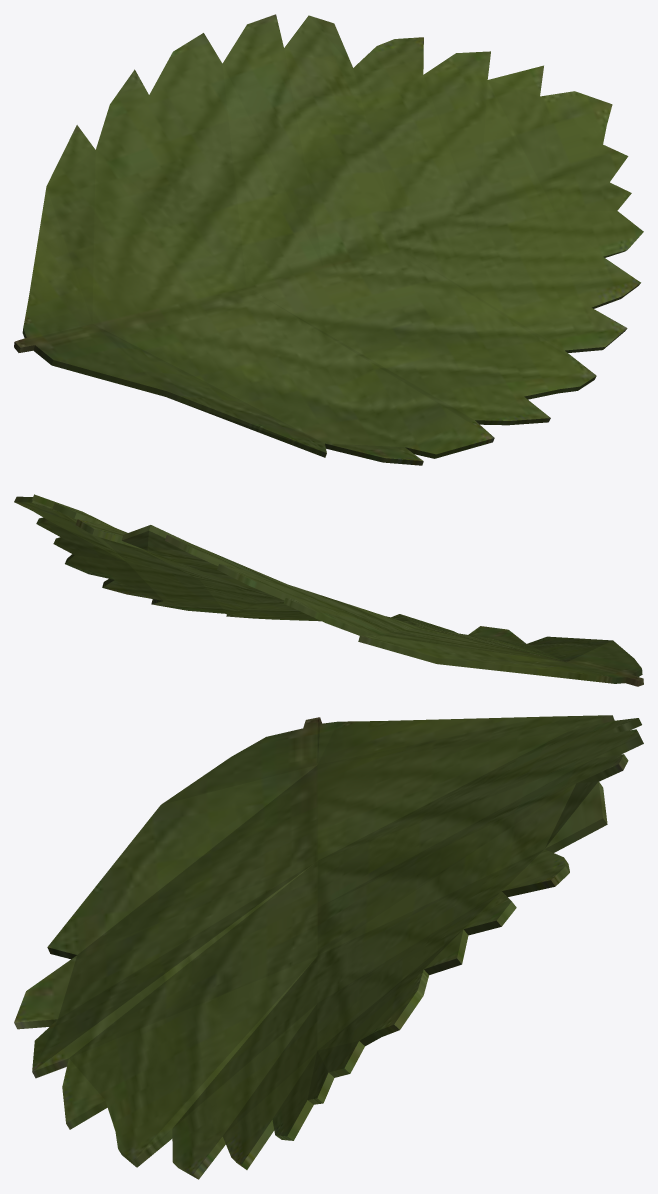
Rendered from leaf3_g1.dae.
3 views of the same model, one above another, from view 1: azimuth 30°, elevation 25°; view 2: azimuth 150°, elevation 25°; view 3: azimuth 270°, elevation 25° (orthographic). The views are drawn at different scales.
Parts seen in each view (by area): view 1: Plane; view 2: Plane; view 3: Plane.
Part boxes in pixels (bbox=[...]): Plane: bbox=[14, 14, 643, 465]; Plane: bbox=[14, 494, 643, 686]; Plane: bbox=[14, 715, 643, 1179].
Size of the model in its own units: 0.1376 by 0.0946 by 0.055.
Materials: 1 (1 with a texture image).
